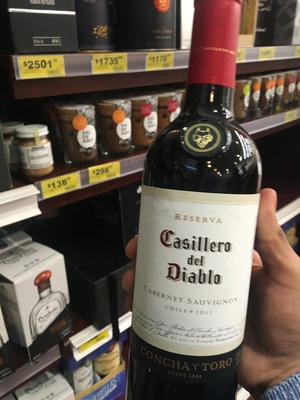casillero del diablo cabernet sauvignon: (132, 6, 282, 400)
